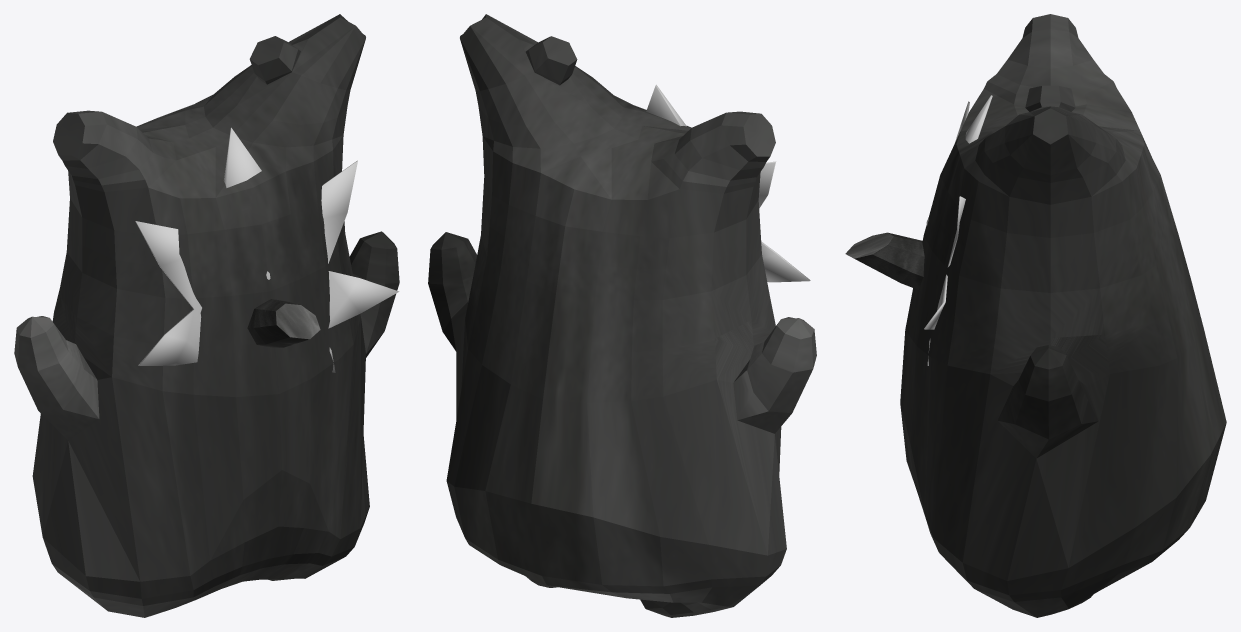
The model's file is frame_0058.obj.
3 renders of one model, left to right at view 1: azimuth 30°, elevation 25°; view 2: azimuth 150°, elevation 25°; view 3: azimuth 270°, elevation 25°, orthographic. The views are drawn at different scales.
Visible parts, largest first — view 1: korok, leaf, nose; view 2: korok, leaf; view 3: korok, nose, leaf.
Boxes of the visible parts, x1,y1,x2,y2 form: korok: [14, 14, 399, 617]; leaf: [135, 127, 399, 372]; nose: [247, 299, 320, 347]; korok: [428, 14, 816, 617]; leaf: [646, 84, 810, 282]; korok: [900, 14, 1226, 617]; nose: [845, 232, 924, 289]; leaf: [924, 95, 992, 365].
Bounding box in the file's own units: 1.53 × 2.08 × 1.35.
